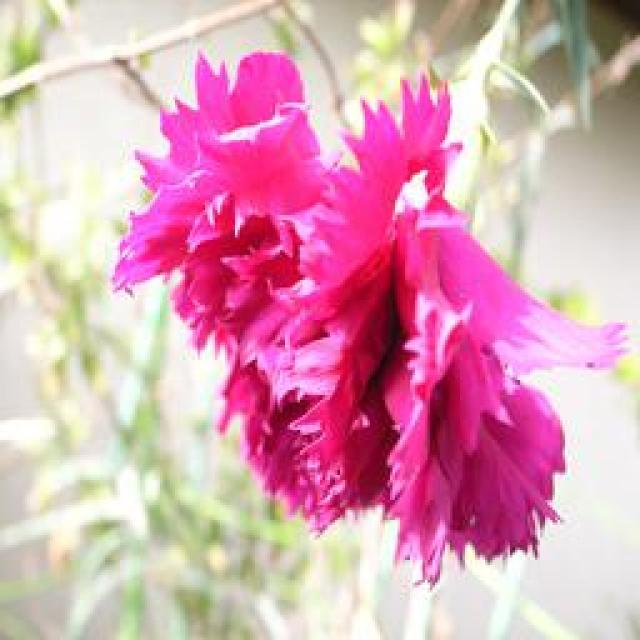carnation: (112, 21, 598, 560)
